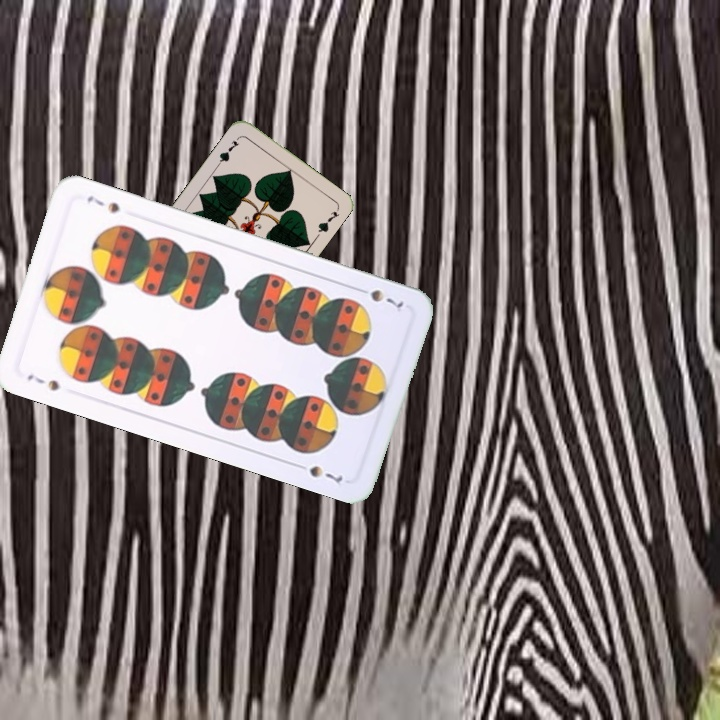G7: (214, 133, 243, 168)
S7: (352, 283, 406, 311), (23, 370, 62, 394)
